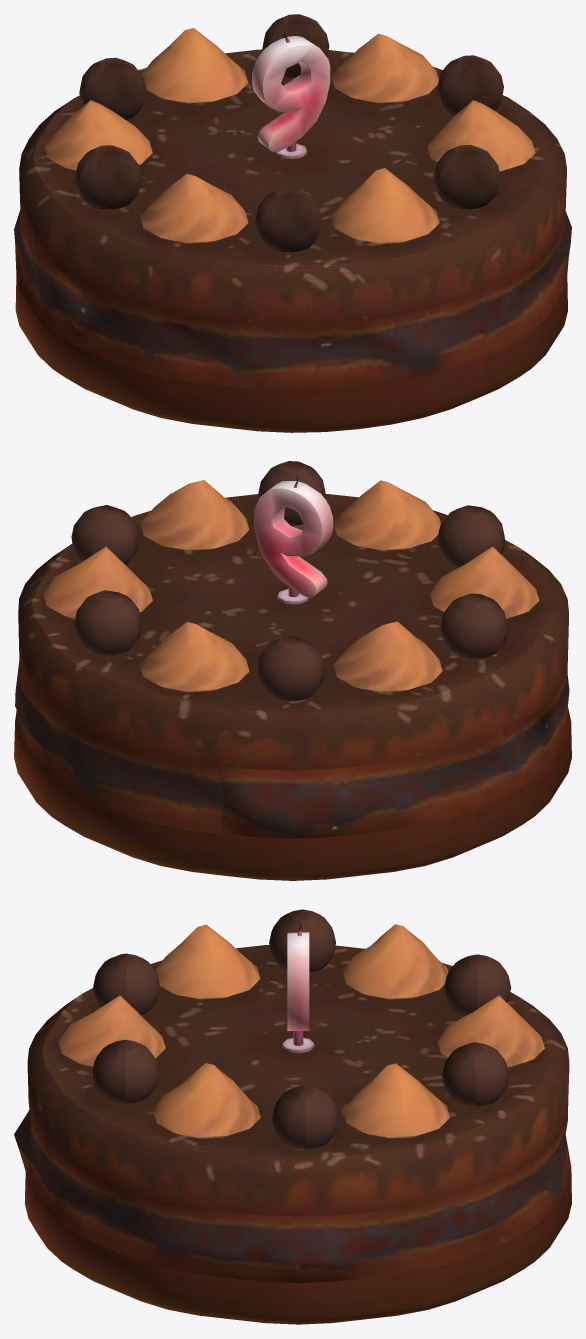
File: birthday_cake_09.glb
The picture shows the model from 3 angles, top to bottom: view 1: azimuth 30°, elevation 25°; view 2: azimuth 150°, elevation 25°; view 3: azimuth 270°, elevation 25°; orthographic projection.
Parts seen in each view (by area): view 1: birthday_cake_modular_09_LOD0; view 2: birthday_cake_modular_09_LOD0; view 3: birthday_cake_modular_09_LOD0.
Boxes of the visible parts, x1,y1,x2,y2 form: birthday_cake_modular_09_LOD0: (14,14,571,432); birthday_cake_modular_09_LOD0: (14,461,571,880); birthday_cake_modular_09_LOD0: (14,909,571,1324).
Size of the model in its own units: 0.4146 by 0.2469 by 0.4129.
Materials: 1 (1 with a texture image).
